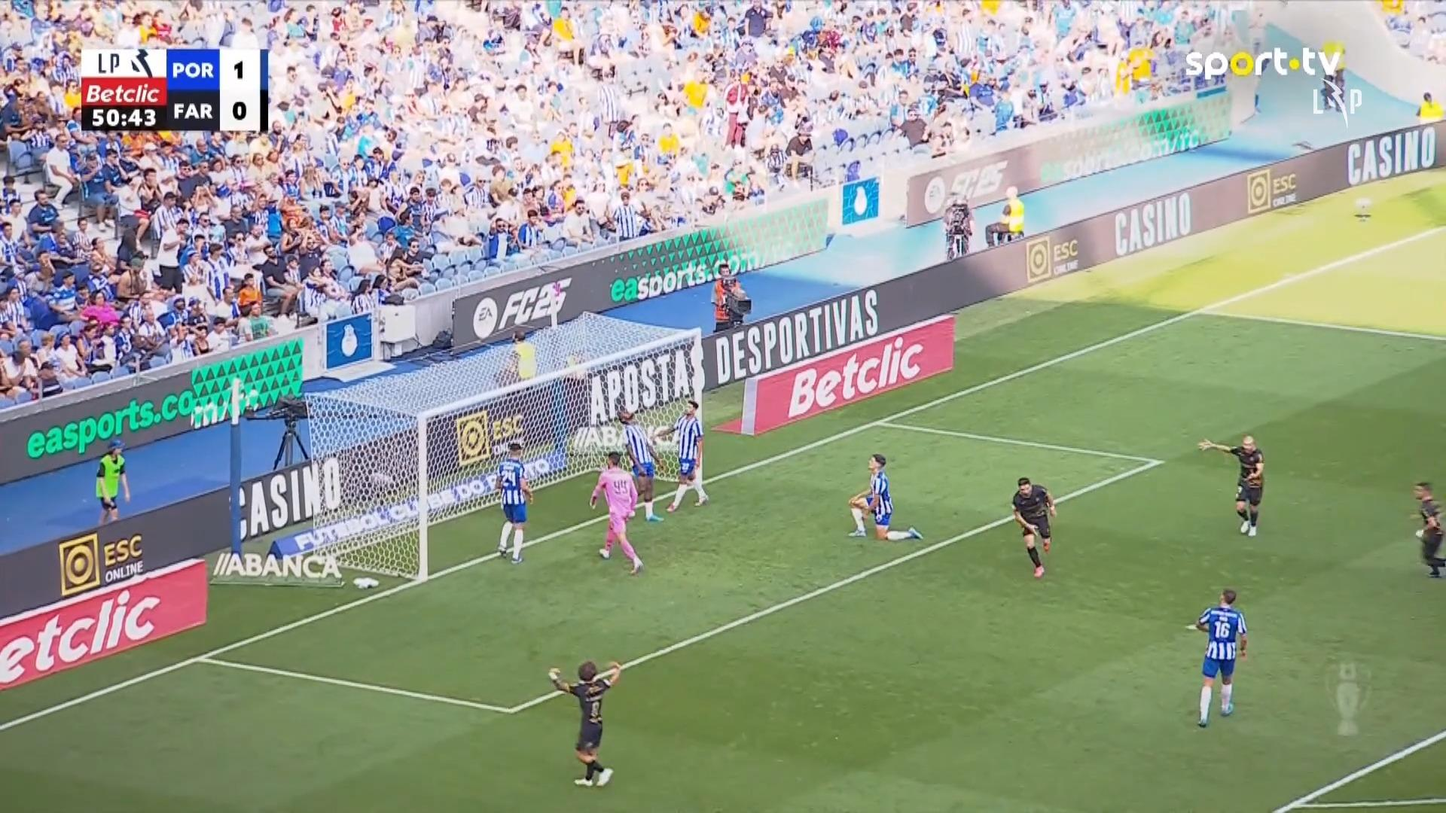goalkeeper: (587, 450, 643, 574)
player: (547, 659, 621, 787), (1194, 588, 1248, 728), (1196, 434, 1265, 537), (846, 452, 923, 541), (651, 399, 709, 512), (615, 406, 664, 522), (493, 440, 534, 564), (1010, 476, 1057, 578), (1408, 480, 1444, 577)
